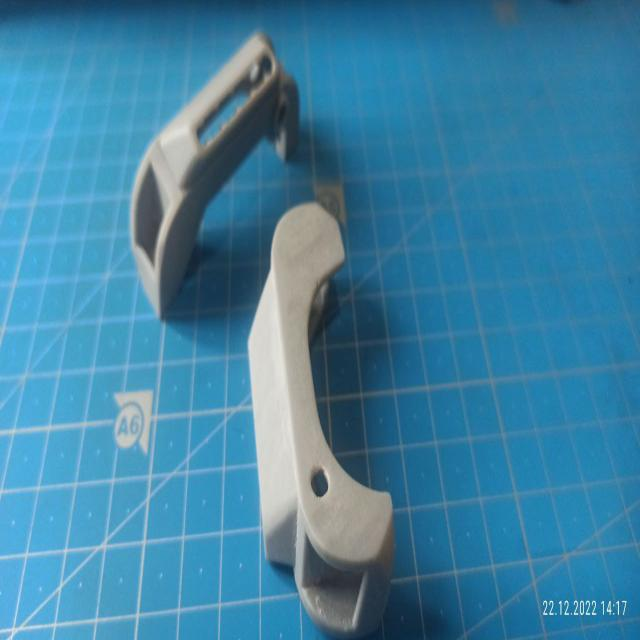Without deffect: (124, 19, 411, 640)
